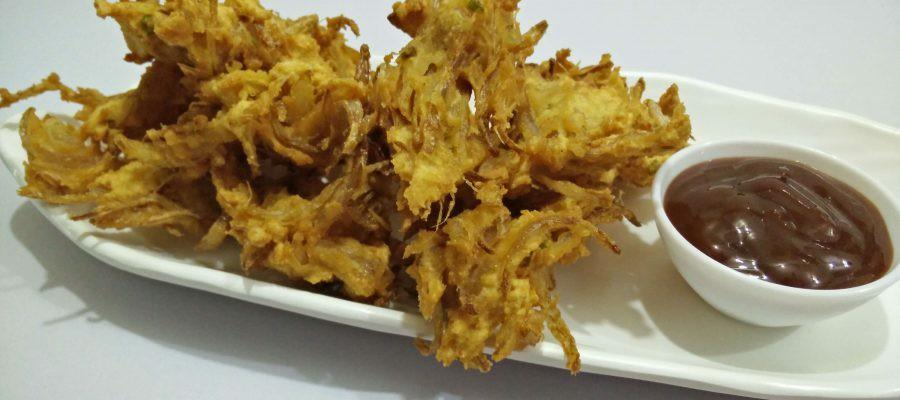OnionPakoda: (17, 0, 698, 373)
